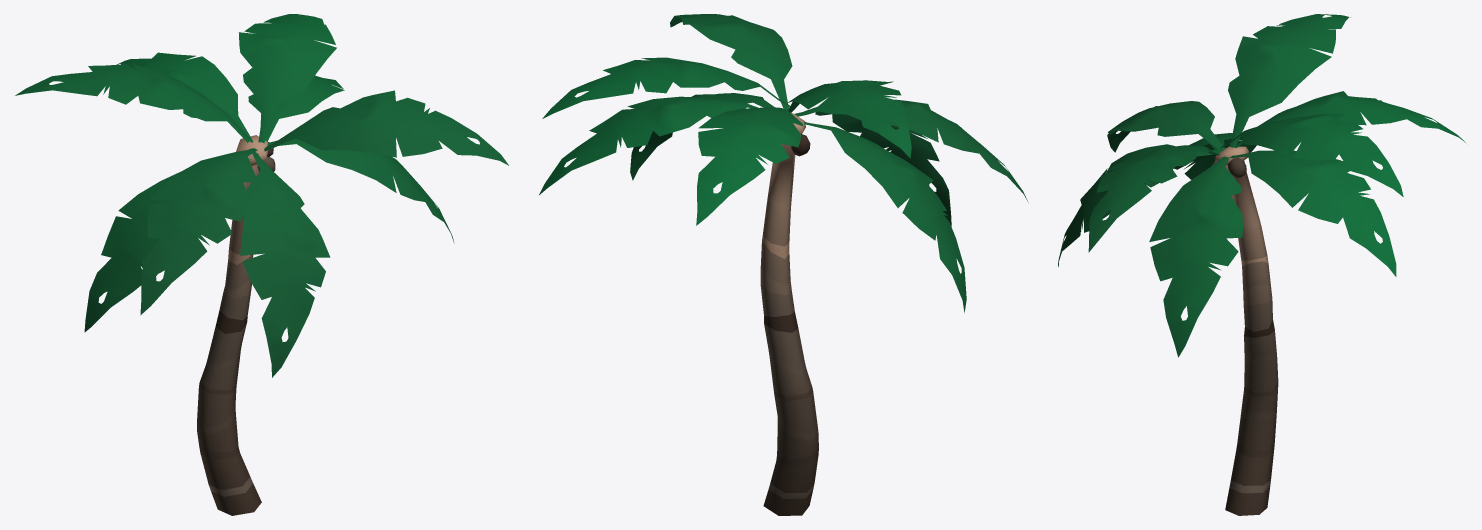
File: PalmTree_06.fbx
3 renders of one model, left to right at view 1: azimuth 30°, elevation 25°; view 2: azimuth 150°, elevation 25°; view 3: azimuth 270°, elevation 25°, orthographic. The views are drawn at different scales.
Parts seen in each view (by area): view 1: Cylinder.188; view 2: Cylinder.188; view 3: Cylinder.188.
Boxes of the visible parts, left/top/right/bottom form: Cylinder.188: left=15, top=14, right=508, bottom=515; Cylinder.188: left=539, top=14, right=1028, bottom=515; Cylinder.188: left=1058, top=14, right=1465, bottom=515.
Bounding box in the file's own units: 498 × 574 × 494.
